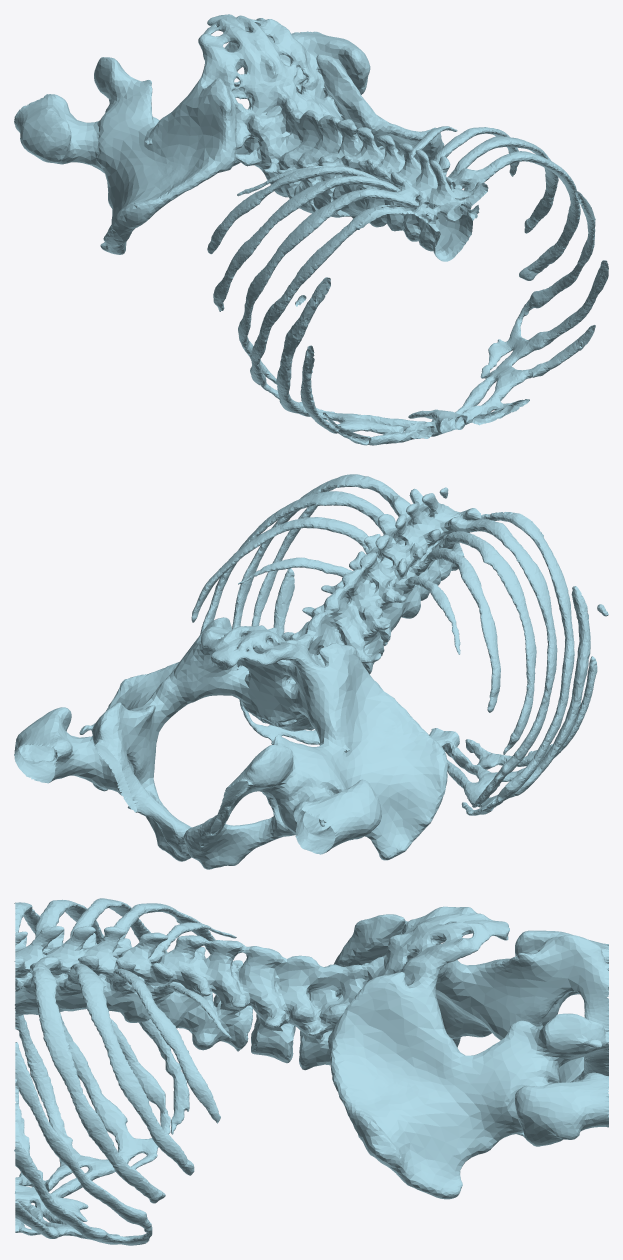
File: bone.obj
The picture shows the model from 3 angles, top to bottom: view 1: azimuth 30°, elevation 25°; view 2: azimuth 150°, elevation 25°; view 3: azimuth 270°, elevation 25°; orthographic projection. The views are drawn at different scales.
Parts seen in each view (by area): view 1: grp1; view 2: grp1; view 3: grp1.
Boxes of the visible parts, <box> form: grp1: <box>14,14,608,445</box>; grp1: <box>14,474,608,869</box>; grp1: <box>14,898,608,1245</box>.
Bounding box in the file's own units: 324 × 244 × 447.
